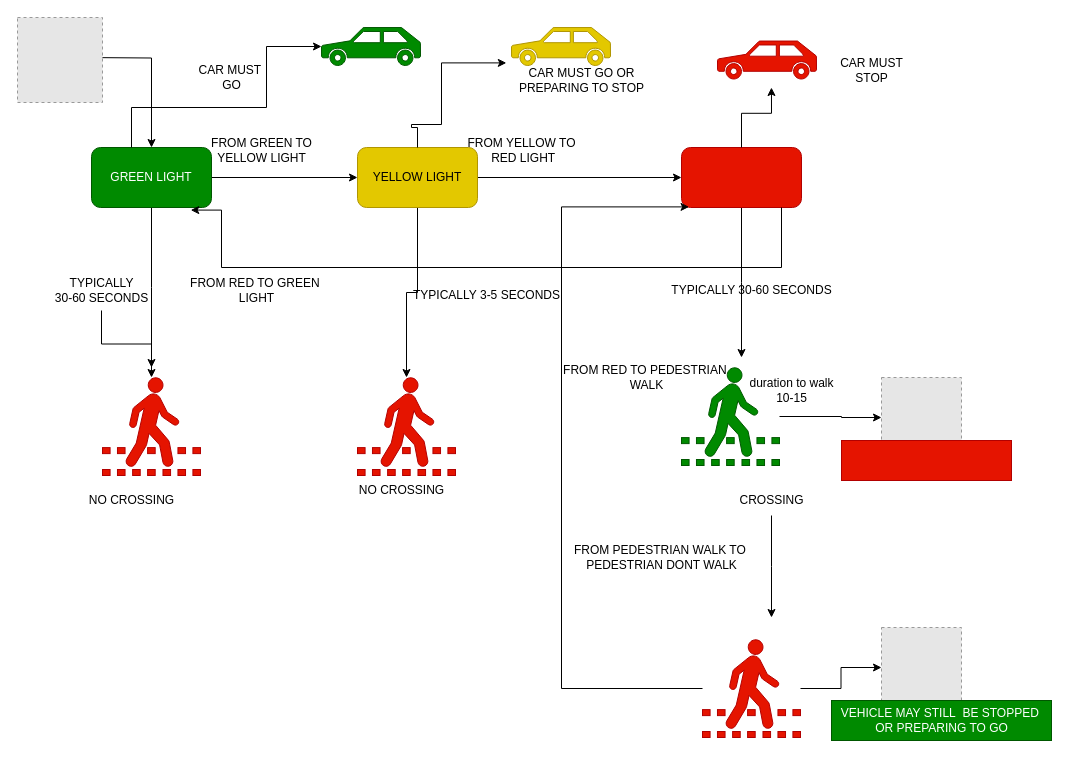
Image size: 1069x758. Some labels were removed from this diagram. Grey dashed boxes stand in for pictures. The shapes that lost their labels are listed below. From the top down, each one's centre as x and y in pixels, then its label:
At point (741, 177): "RED LIGHT".
At point (926, 460): "after pedestrian walk signal vehicle must stop".
